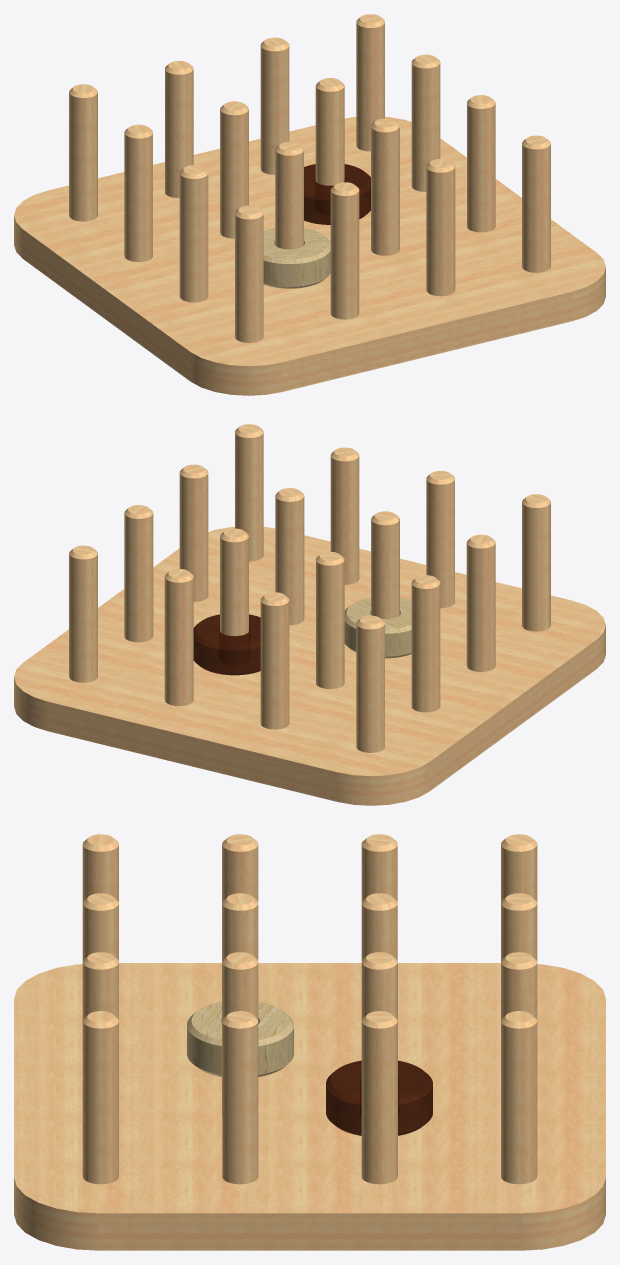
File: boardWithPieces-transformed.glb
The picture shows the model from 3 angles, top to bottom: view 1: azimuth 30°, elevation 25°; view 2: azimuth 150°, elevation 25°; view 3: azimuth 270°, elevation 25°; orthographic projection. The views are drawn at different scales.
Visible parts, largest first — view 1: TTT-field-circle, TTT-piece-circle, TTT-piece-circle.001; view 2: TTT-field-circle, TTT-piece-circle.001, TTT-piece-circle; view 3: TTT-field-circle, TTT-piece-circle.001, TTT-piece-circle.
Part boxes in pixels (x1=…): TTT-field-circle: x1=14, y1=14, x2=605, y2=395; TTT-piece-circle: x1=263, y1=227, x2=330, y2=288; TTT-piece-circle.001: x1=304, y1=164, x2=370, y2=224; TTT-field-circle: x1=14, y1=424, x2=605, y2=805; TTT-piece-circle.001: x1=193, y1=614, x2=260, y2=675; TTT-piece-circle: x1=344, y1=597, x2=411, y2=658; TTT-field-circle: x1=14, y1=834, x2=605, y2=1250; TTT-piece-circle.001: x1=326, y1=1060, x2=432, y2=1135; TTT-piece-circle: x1=187, y1=1001, x2=293, y2=1076.
Bounding box in the file's own units: 3.99 × 1.47 × 3.99.
6 materials, 6 textured.
